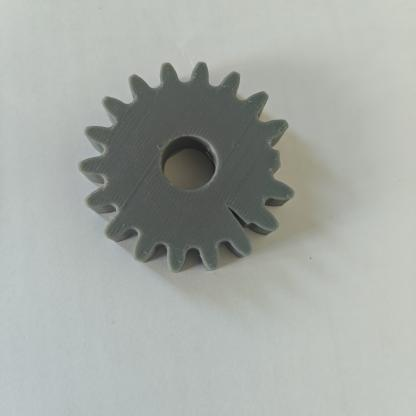defect: (209, 188, 293, 264), (247, 125, 302, 181)
gear: (69, 52, 330, 298)
